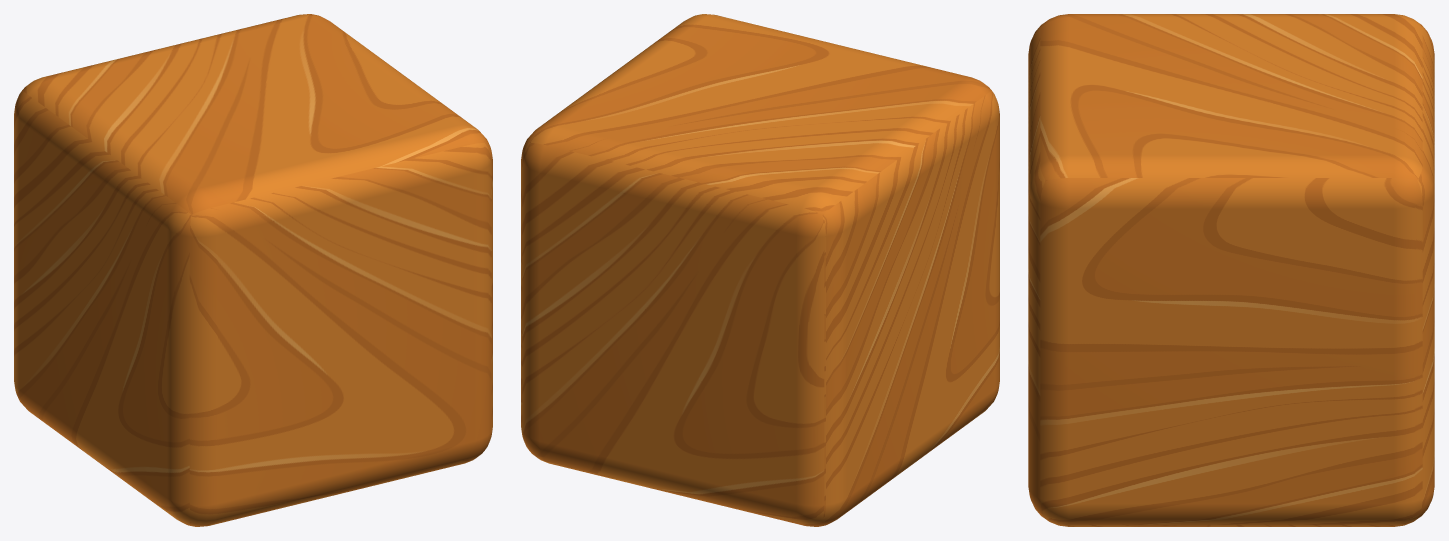
Rendered from Cube small Bevel.fbx.
3 views of the same model, side by side, from view 1: azimuth 30°, elevation 25°; view 2: azimuth 150°, elevation 25°; view 3: azimuth 270°, elevation 25° (orthographic). The views are drawn at different scales.
Visible parts, largest first — view 1: Cube small Bevel; view 2: Cube small Bevel; view 3: Cube small Bevel.
Boxes of the visible parts, x1,y1,x2,y2 form: Cube small Bevel: [14, 14, 492, 526]; Cube small Bevel: [521, 14, 999, 526]; Cube small Bevel: [1028, 14, 1434, 526].
Bounding box in the file's own units: 200 × 200 × 200.
Materials: 1 (1 with a texture image).
